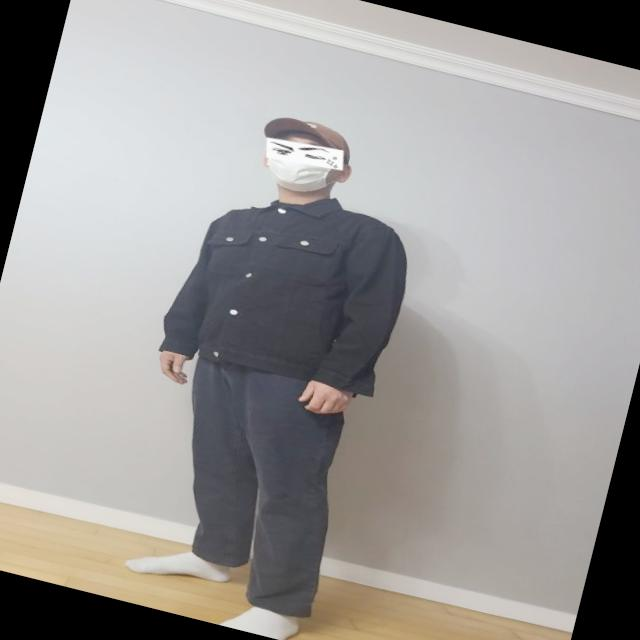denimpants: (142, 358, 372, 624)
shirt: (157, 162, 425, 404)
